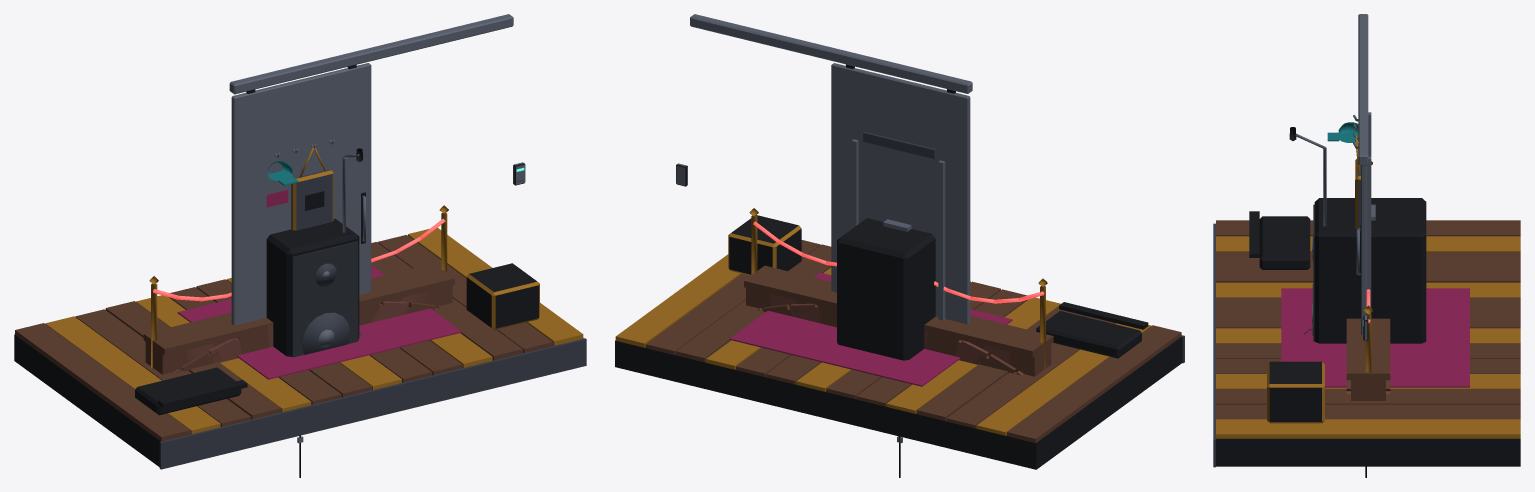
Rendered from room-detail-stare-props.glb.
3 renders of one model, left to right at view 1: azimuth 30°, elevation 25°; view 2: azimuth 150°, elevation 25°; view 3: azimuth 270°, elevation 25°, orthographic. The views are drawn at different scales.
Parts seen in each view (by area): view 1: rd-trasa-stage, rd-capsule-door, rd-trasa-speaker, rd-trasa-arch-24, rd-capsule-hooks, rd-trasa-arch-21, rd-trasa-rope; view 2: rd-trasa-stage, rd-capsule-door, rd-trasa-speaker, rd-trasa-arch-24, rd-trasa-arch-21, rd-trasa-board, rd-trasa-rope, rd-capsule-hooks; view 3: rd-trasa-stage, rd-trasa-speaker, rd-trasa-arch-24, rd-capsule-door, rd-trasa-board, rd-capsule-hooks, rd-trasa-arch-21, rd-trasa-rope.
Part boxes in pixels (x1,y1,x2,y2): rd-trasa-stage: [14, 148, 586, 469]; rd-capsule-door: [229, 14, 525, 325]; rd-trasa-speaker: [266, 218, 359, 357]; rd-trasa-arch-24: [143, 263, 454, 374]; rd-capsule-hooks: [268, 139, 334, 230]; rd-trasa-arch-21: [180, 267, 435, 369]; rd-trasa-rope: [149, 205, 448, 368]; rd-trasa-stage: [615, 215, 1184, 469]; rd-capsule-door: [676, 14, 972, 324]; rd-trasa-speaker: [837, 218, 935, 360]; rd-trasa-arch-24: [744, 265, 1053, 376]; rd-trasa-arch-21: [762, 270, 1016, 368]; rd-trasa-board: [851, 139, 945, 320]; rd-trasa-rope: [749, 208, 1047, 369]; rd-capsule-hooks: [863, 131, 935, 159]; rd-trasa-stage: [1213, 127, 1520, 467]; rd-trasa-speaker: [1312, 198, 1426, 343]; rd-trasa-arch-24: [1346, 318, 1390, 400]; rd-capsule-door: [1356, 14, 1368, 340]; rd-trasa-board: [1366, 112, 1371, 313]; rd-capsule-hooks: [1327, 115, 1360, 228]; rd-trasa-arch-21: [1346, 318, 1390, 364]; rd-trasa-rope: [1363, 161, 1372, 372].
Size of the model in its own units: 3.62 by 3.26 by 2.12.
Materials: 1 (1 with a texture image).
